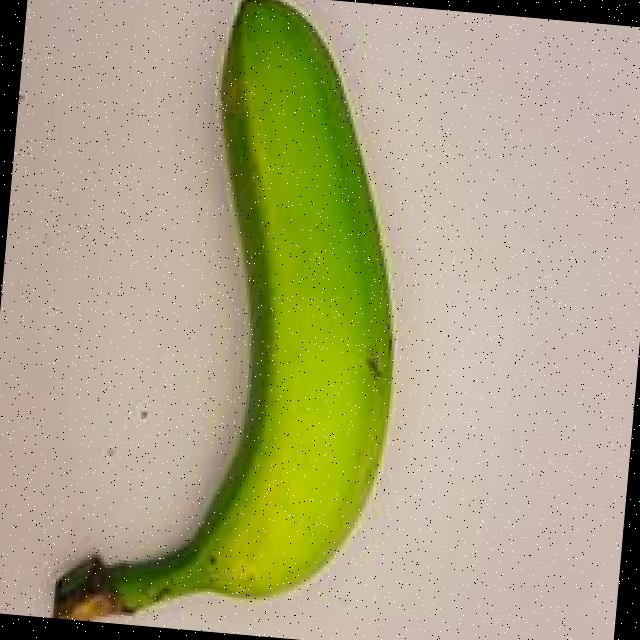Unripe: (19, 0, 463, 640)
